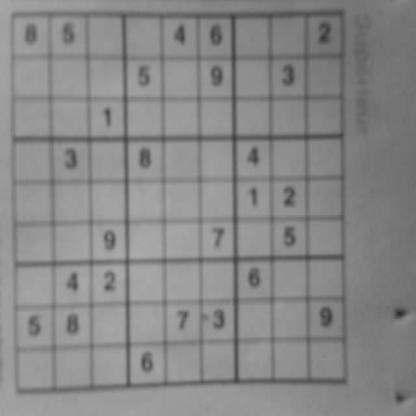sudoku: (7, 4, 351, 402)
